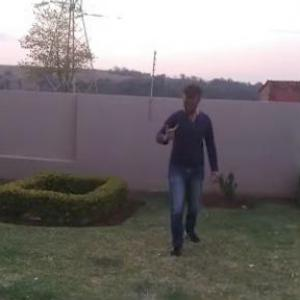takeoff-hand: (158, 115, 180, 144)
